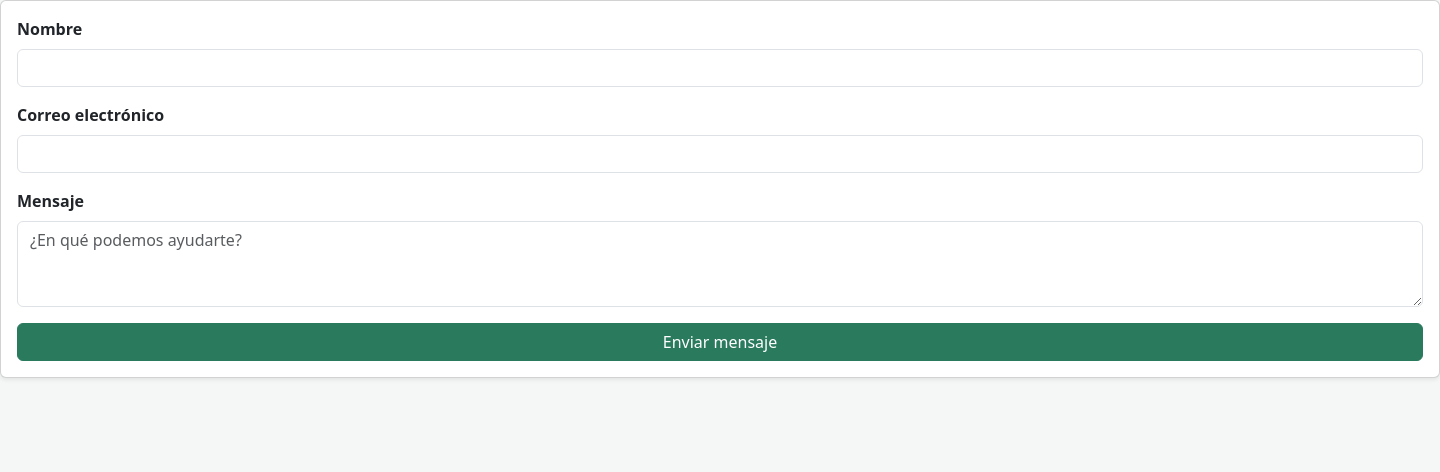
FormularioContacto › muestra los errores y NO avisa a la página si el formulario está vacío
The width and height of the screenshot is (1440, 472).
Click the button "Enviar mensaje".
click(720, 342)  # box 17,323 -> 1423,361
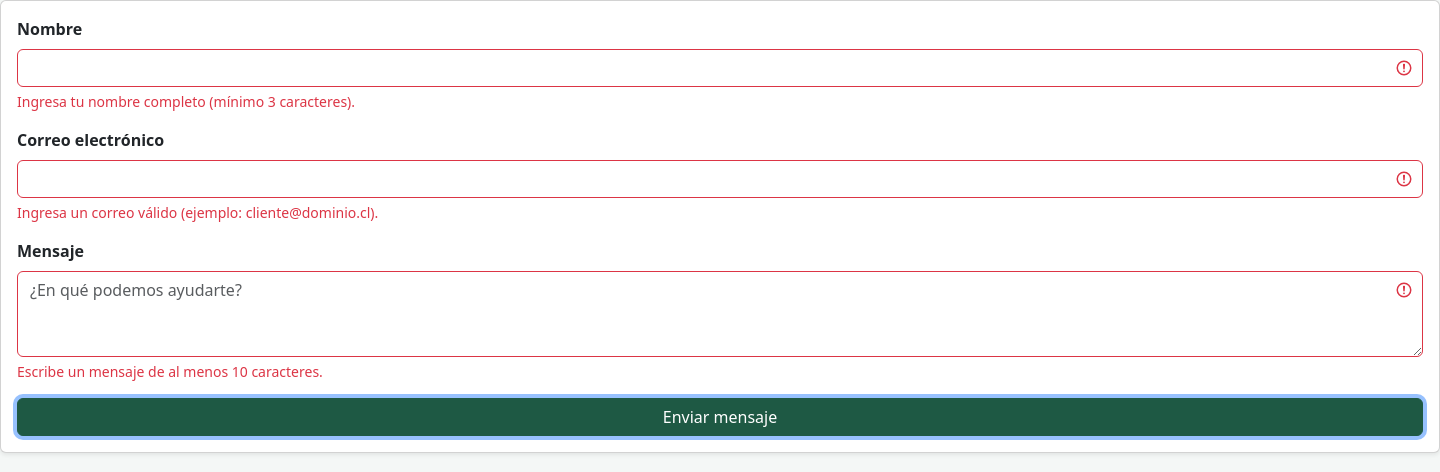
Expected: the number of messages is 3, 17,92 -> 355,111; 17,203 -> 378,222; 17,362 -> 323,381
